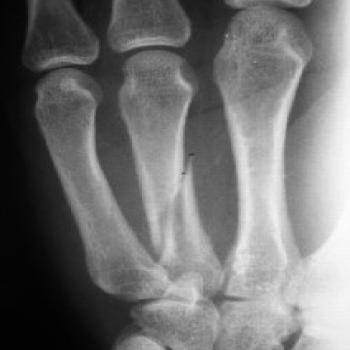Fracture: (148, 152, 202, 256)
